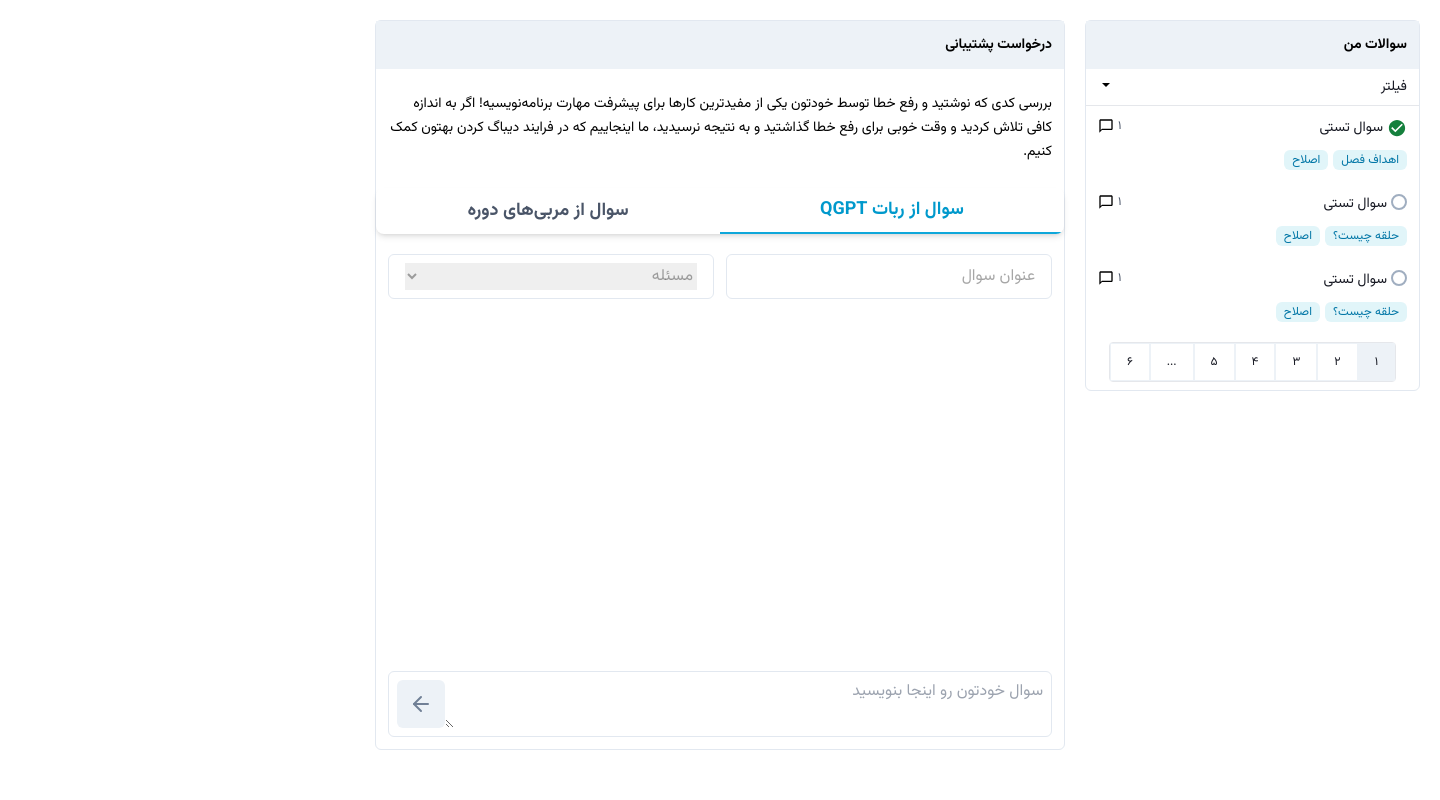
Test: Ask to mentor › question type and question text error disable
Click the link "سوال از مربی‌های دوره" at (548, 211), box [467,197,628,225]
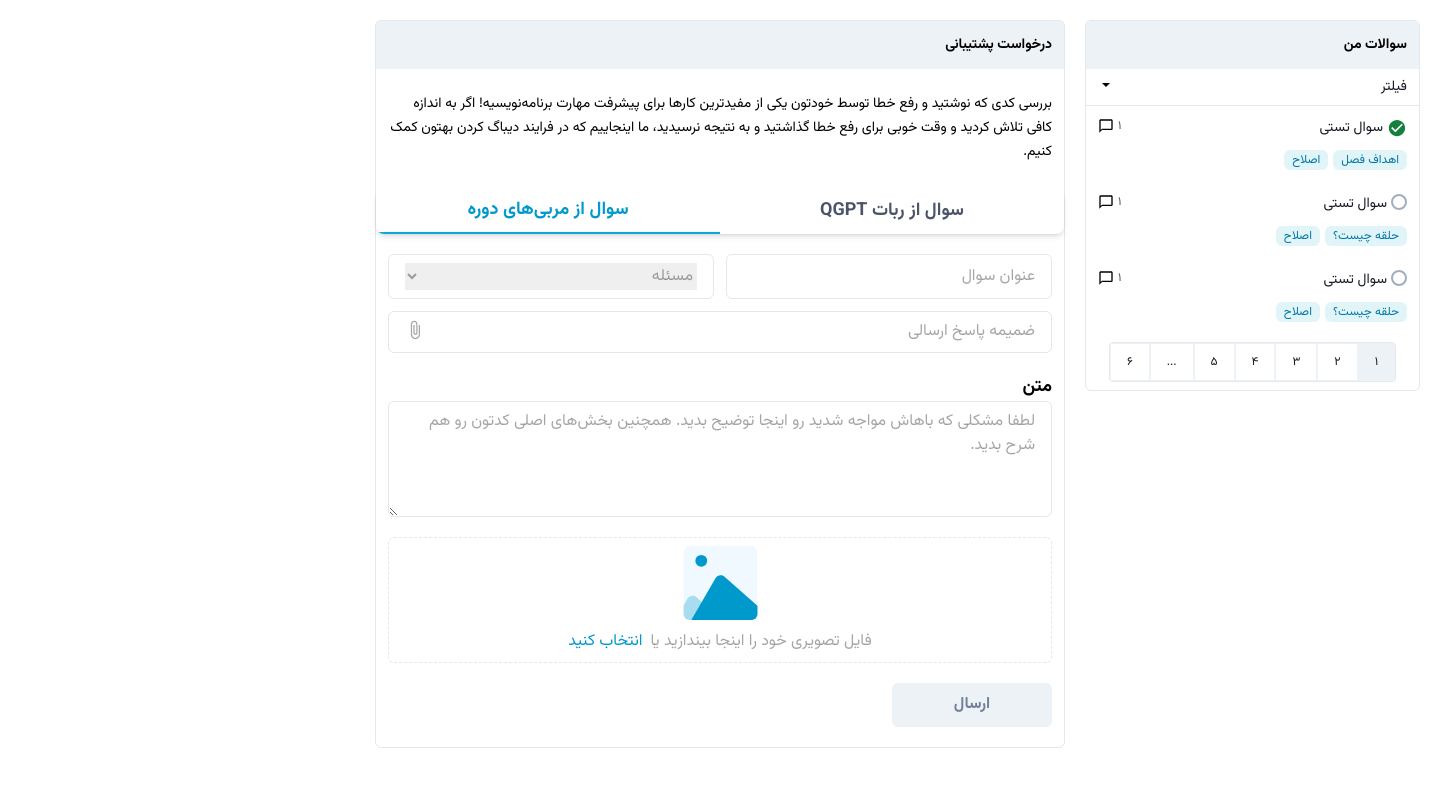
Click the button "ارسال" at (972, 705), box [892,683,1052,727]
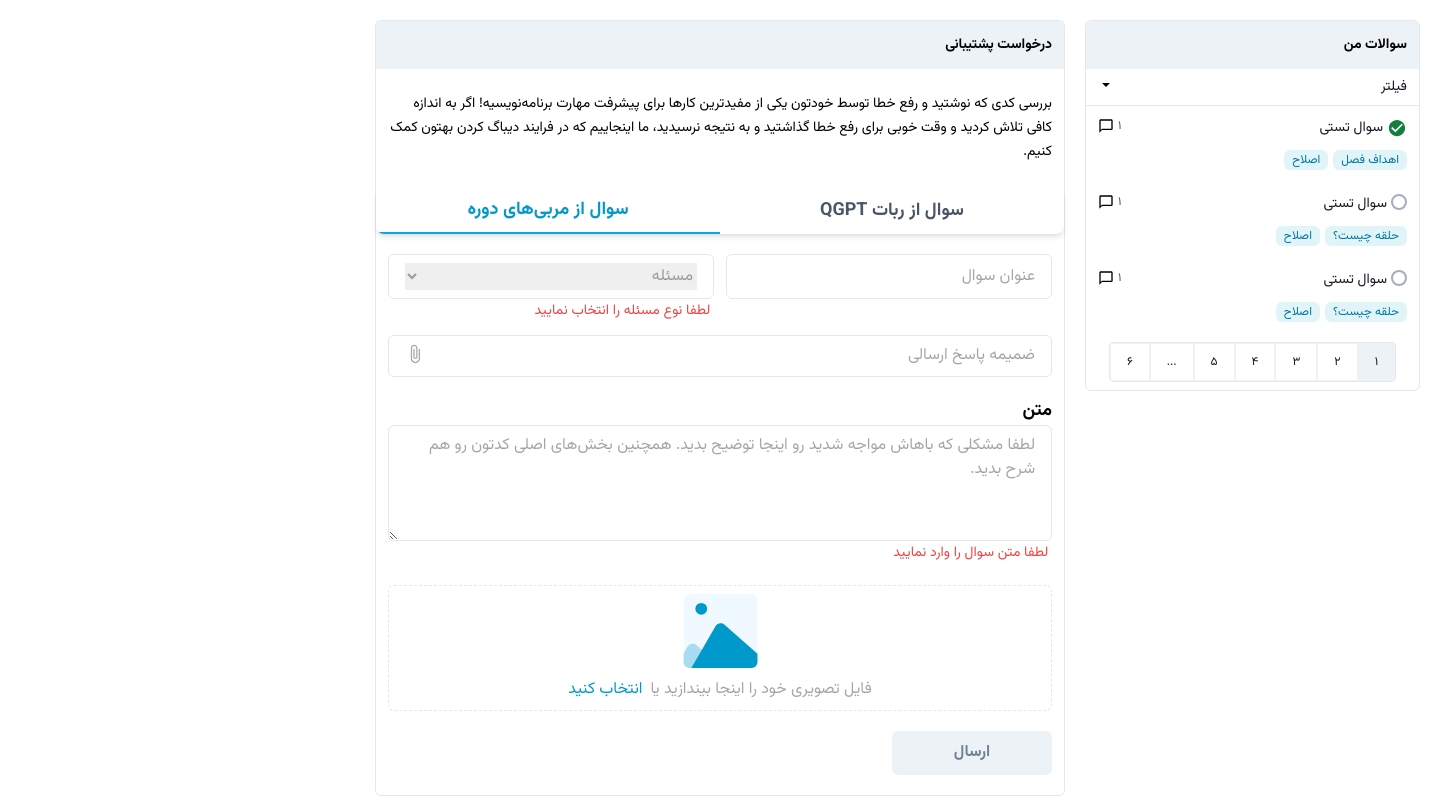
Select "حلقه چیست؟" in the dropdown at (551, 277), box [405,263,697,290]
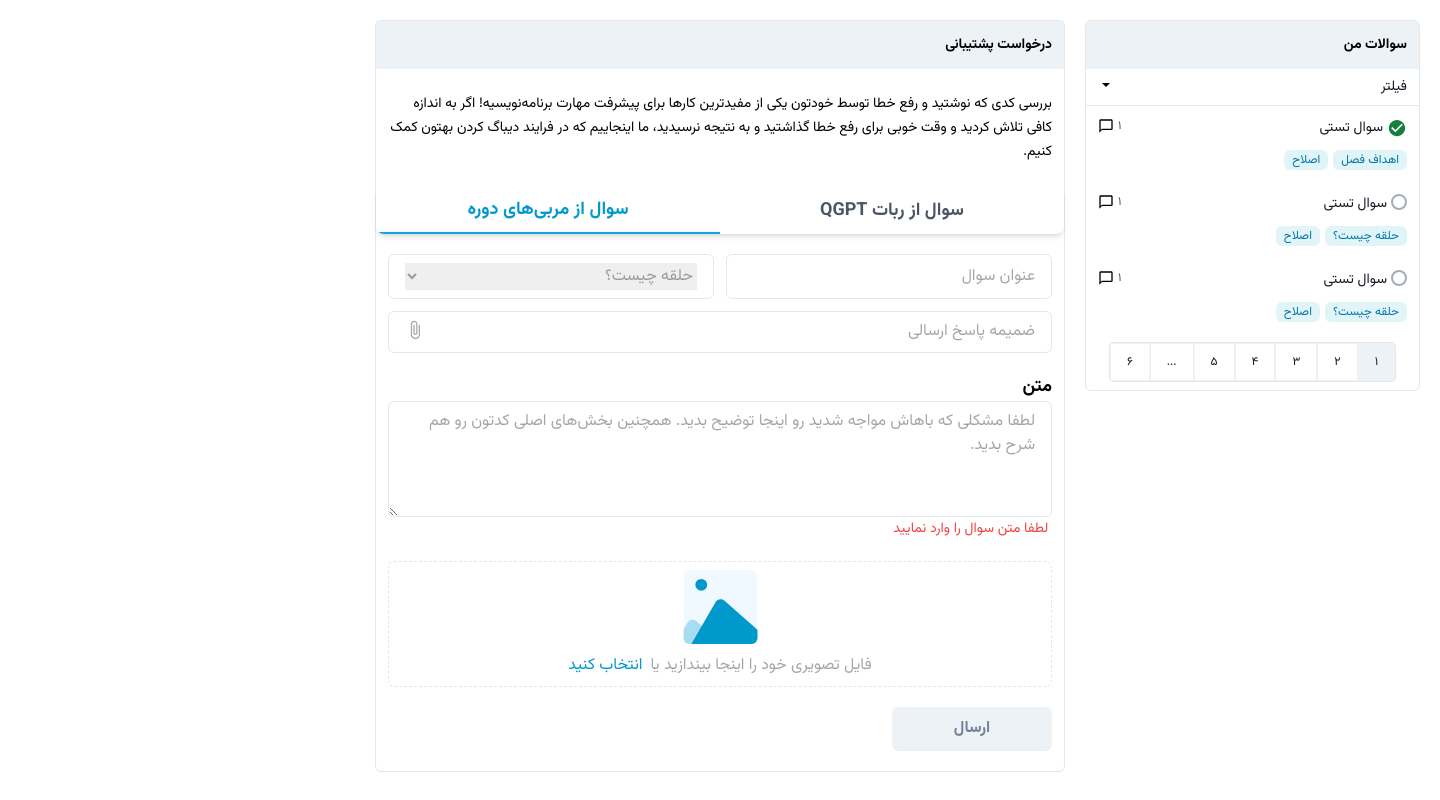
Type "some text" into the text box at (720, 459), box [388,401,1052,517]
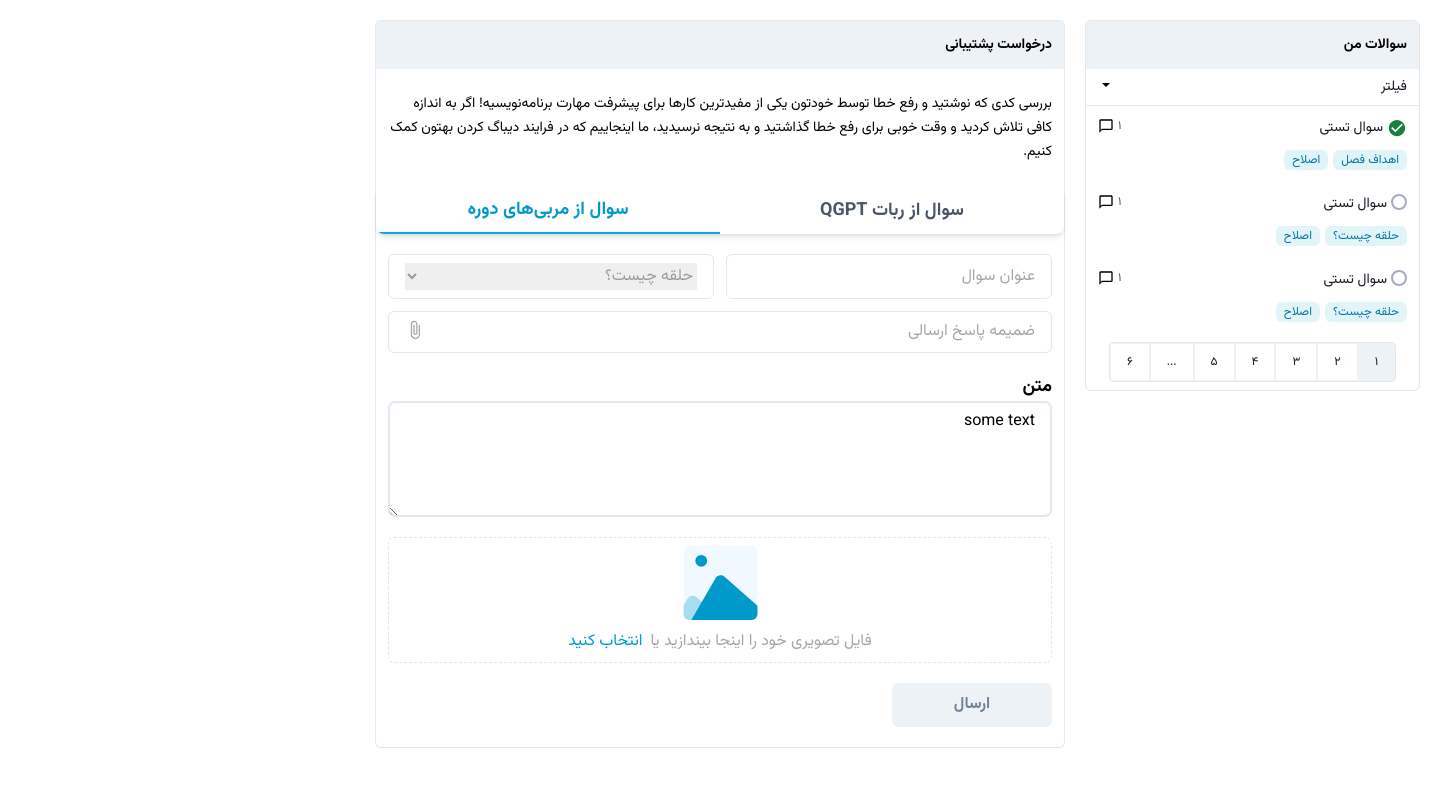
Check: the text "لطفا نوع مسئله را انتخاب نمایید" is not shown
Check: the text "لطفا متن سوال را وارد نمایید" is gone
